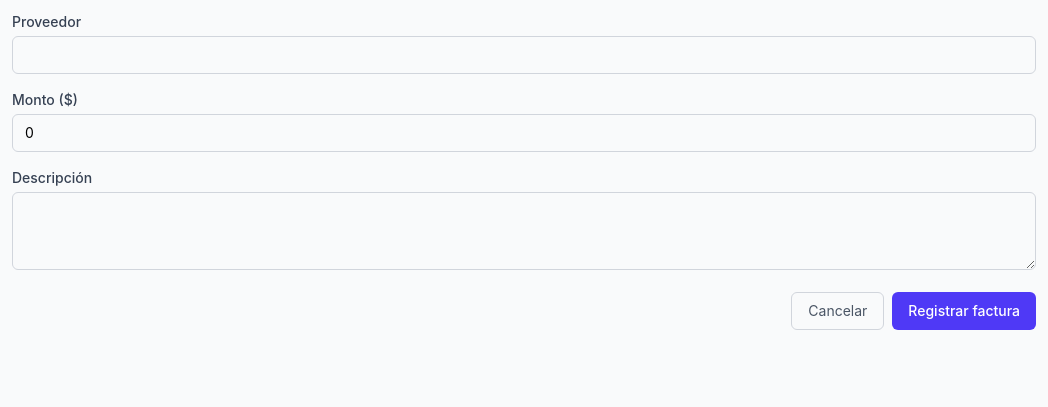
Test case: FormularioFactura › form validation blocks empty submit
Click the button "Registrar factura" at (964, 311), box left=892, top=292, right=1036, bottom=330
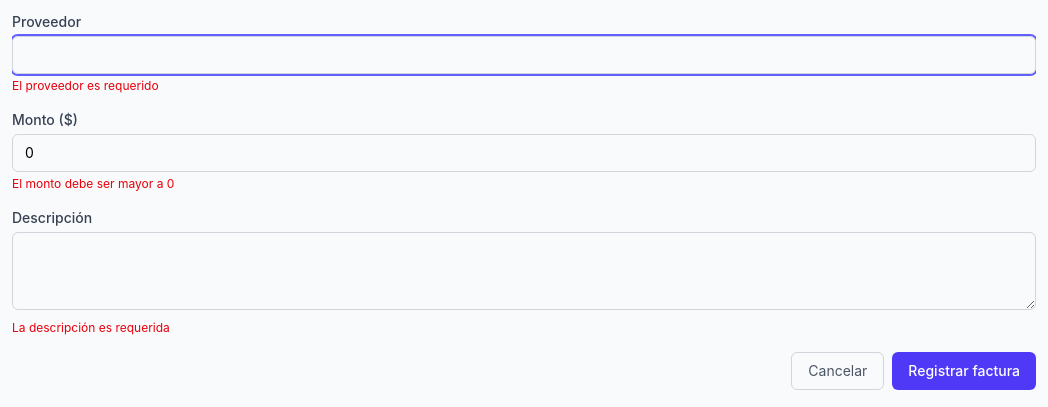
expect the text "El proveedor es requerido" is shown: met, box left=12, top=78, right=159, bottom=93
